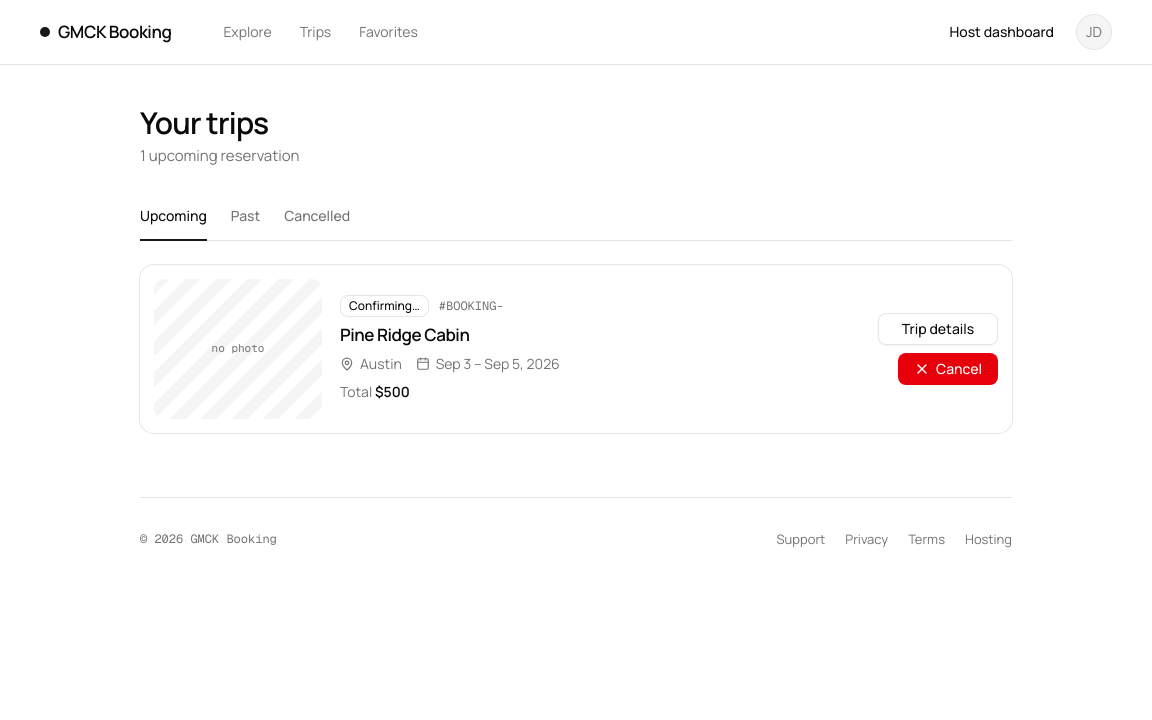
Test: BookingsPage cancel dialog › shows no refund preview line for a PENDING booking (gate is status === CONFIRMED)
Expected: the link "Pine Ridge Cabin" is shown, [340,323,469,346]
Click the button "Cancel" at (948, 368), box [898,352,998,384]
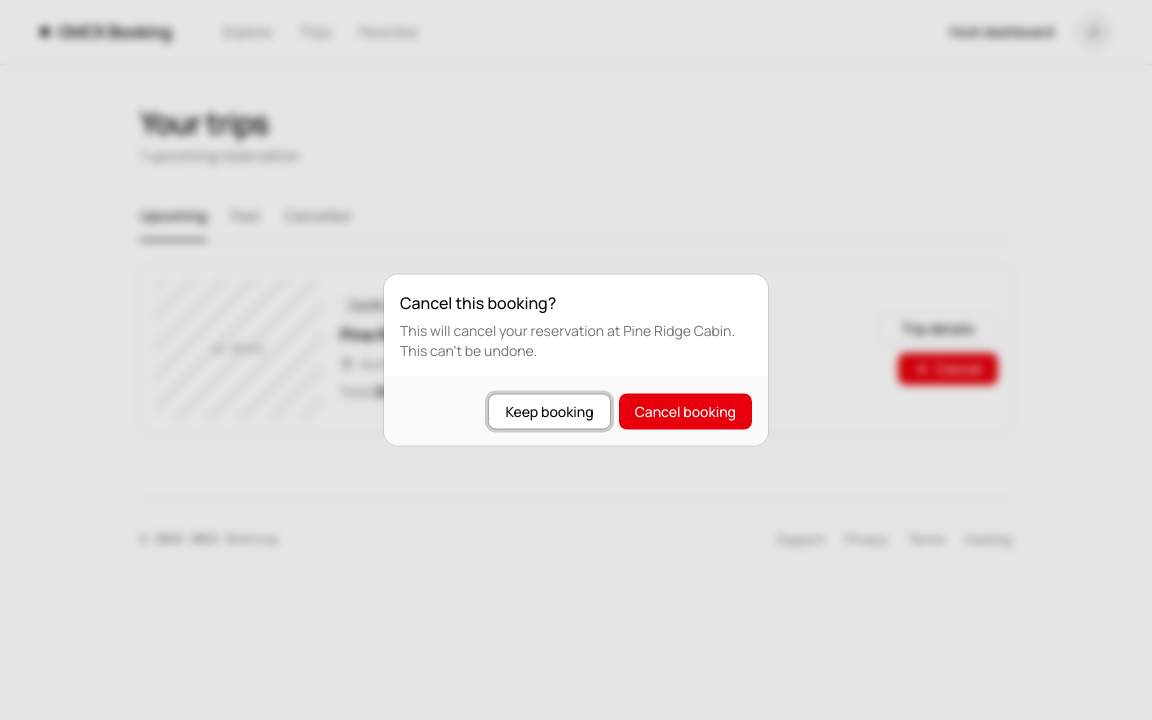
Expected: the dialog does not show "refund", [384,274,768,446]
Now the dialog shows "This will cancel your reservation at Pine Ridge Cabin. This can't be undone.", box [384,274,768,446]
